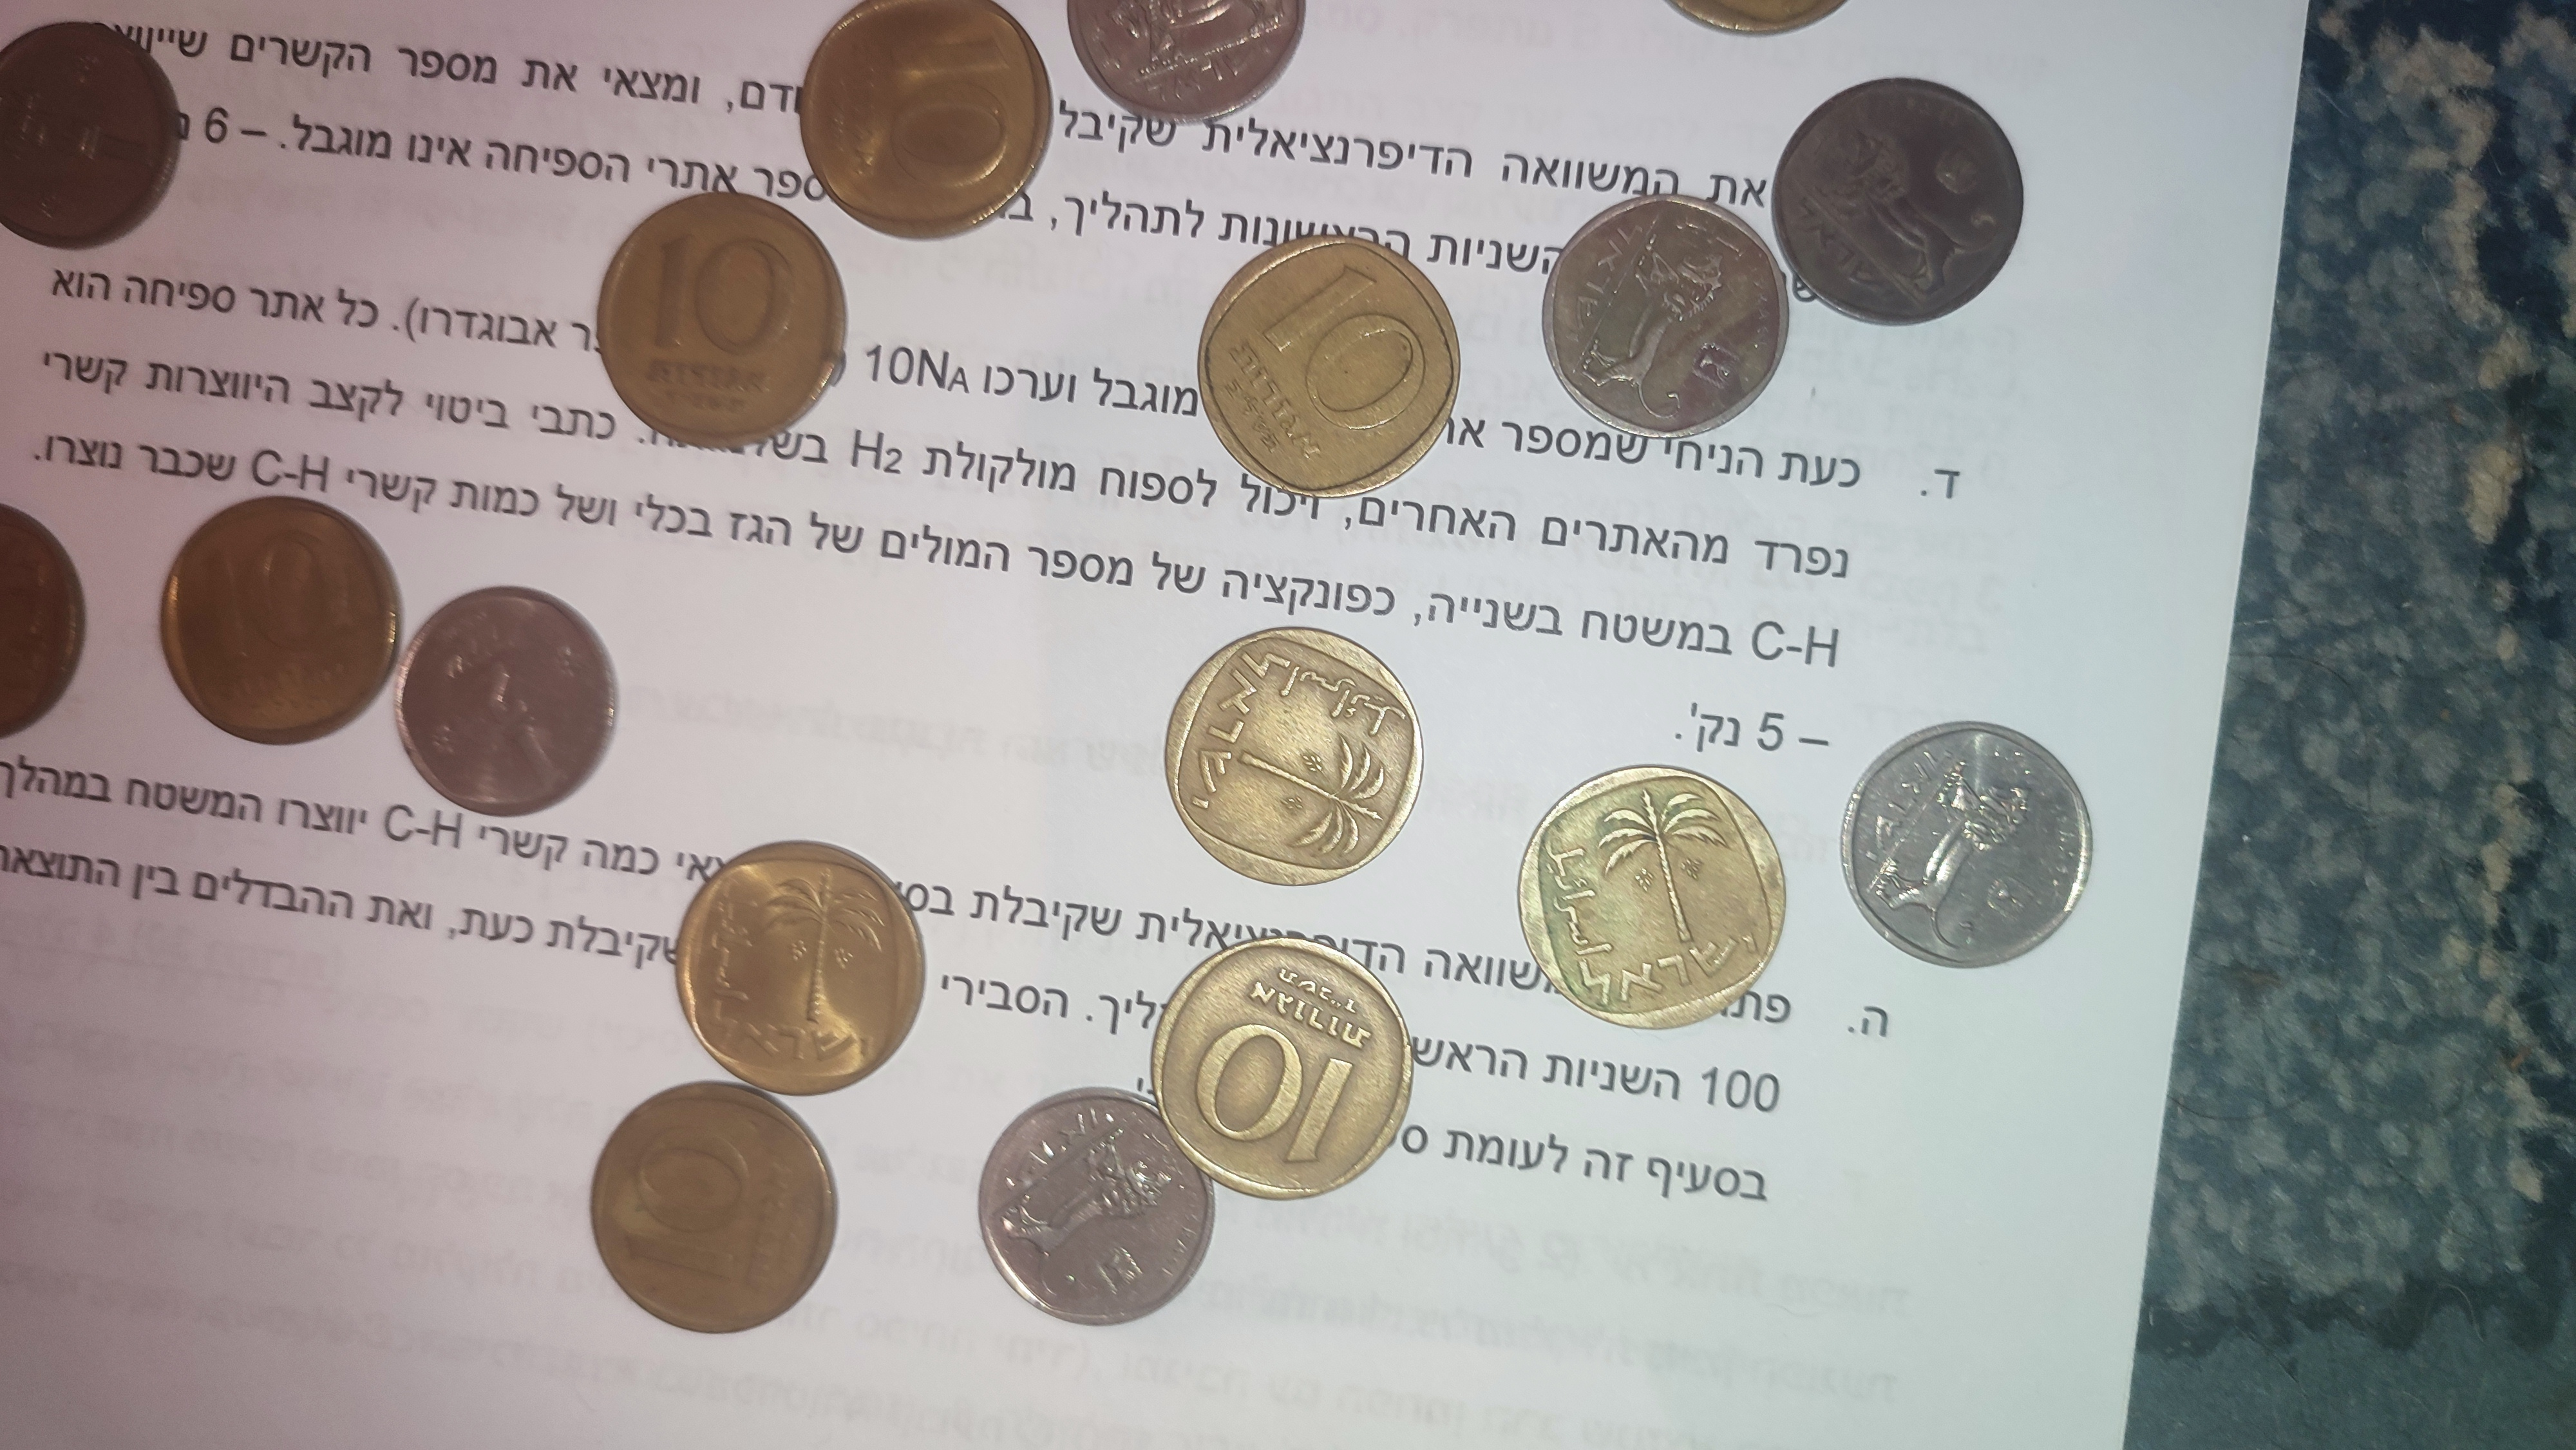1/2 old sheqel: (1836, 716, 2095, 973), (1769, 74, 2026, 331), (1534, 191, 1790, 442), (973, 1082, 1219, 1330), (384, 580, 621, 819), (0, 19, 191, 256), (1063, 0, 1307, 127)
10 old agora brown: (1513, 755, 1794, 1036), (1143, 932, 1421, 1204), (1194, 232, 1461, 500), (1164, 622, 1428, 891), (672, 836, 931, 1102), (591, 187, 849, 453), (586, 1077, 842, 1339), (154, 492, 407, 755), (796, 0, 1056, 244)
